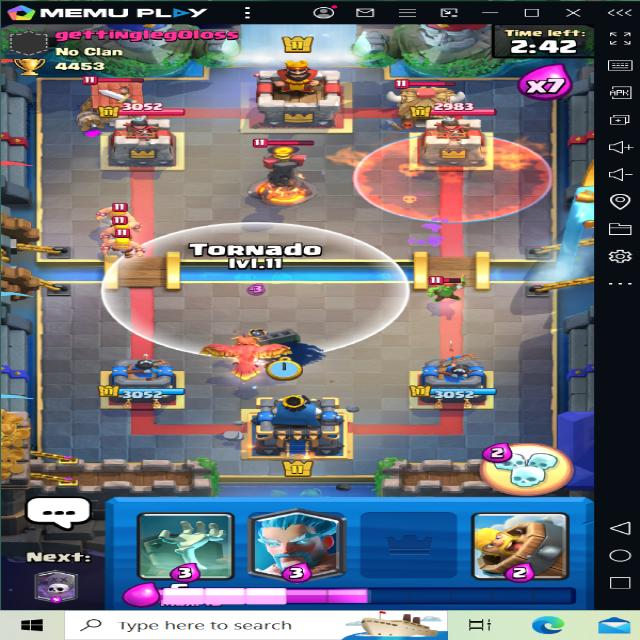barbarian: (98, 228, 143, 258), (97, 216, 138, 236), (99, 200, 134, 221)
barbarian-hut: (77, 72, 151, 132)
goblin-hut: (388, 75, 468, 127)
inferno-tower: (242, 136, 322, 203)
spear-goblin: (422, 272, 461, 298)
